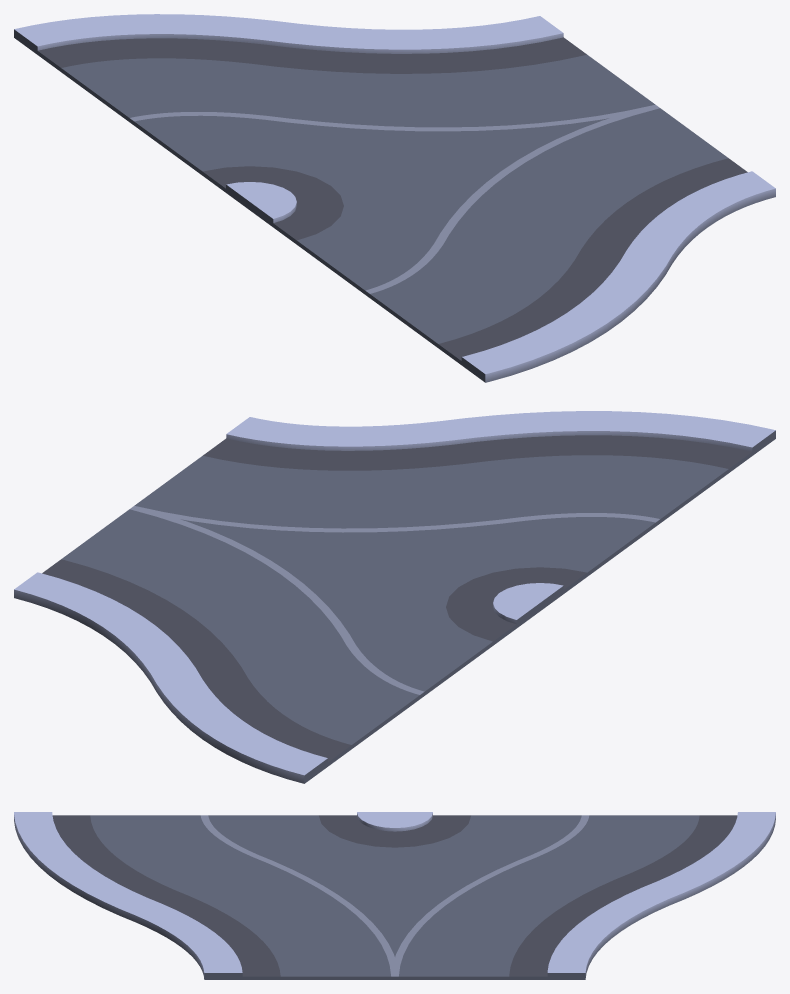
The model's file is road-split.glb.
The picture shows the model from 3 angles, top to bottom: view 1: azimuth 30°, elevation 25°; view 2: azimuth 150°, elevation 25°; view 3: azimuth 270°, elevation 25°; orthographic projection. The views are drawn at different scales.
Parts seen in each view (by area): view 1: road-split; view 2: road-split; view 3: road-split.
Boxes of the visible parts, x1=… form: road-split: x1=14, y1=14, x2=775, y2=382; road-split: x1=14, y1=411, x2=775, y2=783; road-split: x1=14, y1=812, x2=775, y2=979.
Size of the model in its own units: 1 by 0.02 by 2.
Materials: 1 (1 with a texture image).
